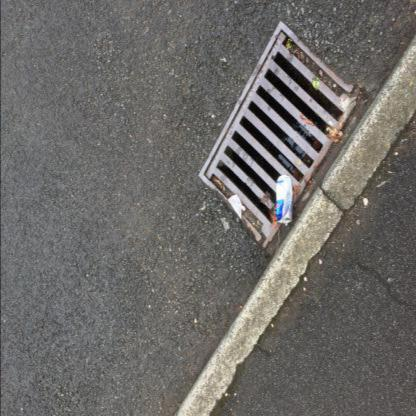Can: (276, 175, 293, 226)
Pop tab: (283, 219, 287, 226)
Unlabeled litter: (228, 194, 245, 219)
